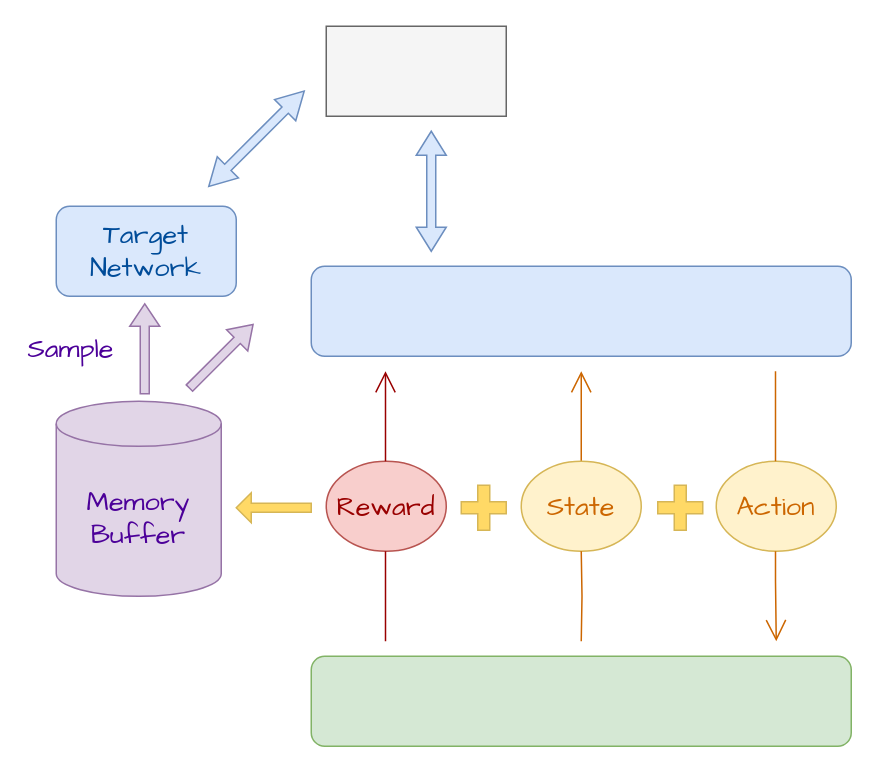
This 878x773 diagram has some shape labels left out. The shapes that lost their labels are listed below. From the top down, each one's box as (x1, y1, x2, y2) in pixels, then its label:
(325, 25, 506, 116): Yt(目标值)
(310, 265, 851, 356): Eval Network
(310, 655, 851, 746): Environment
